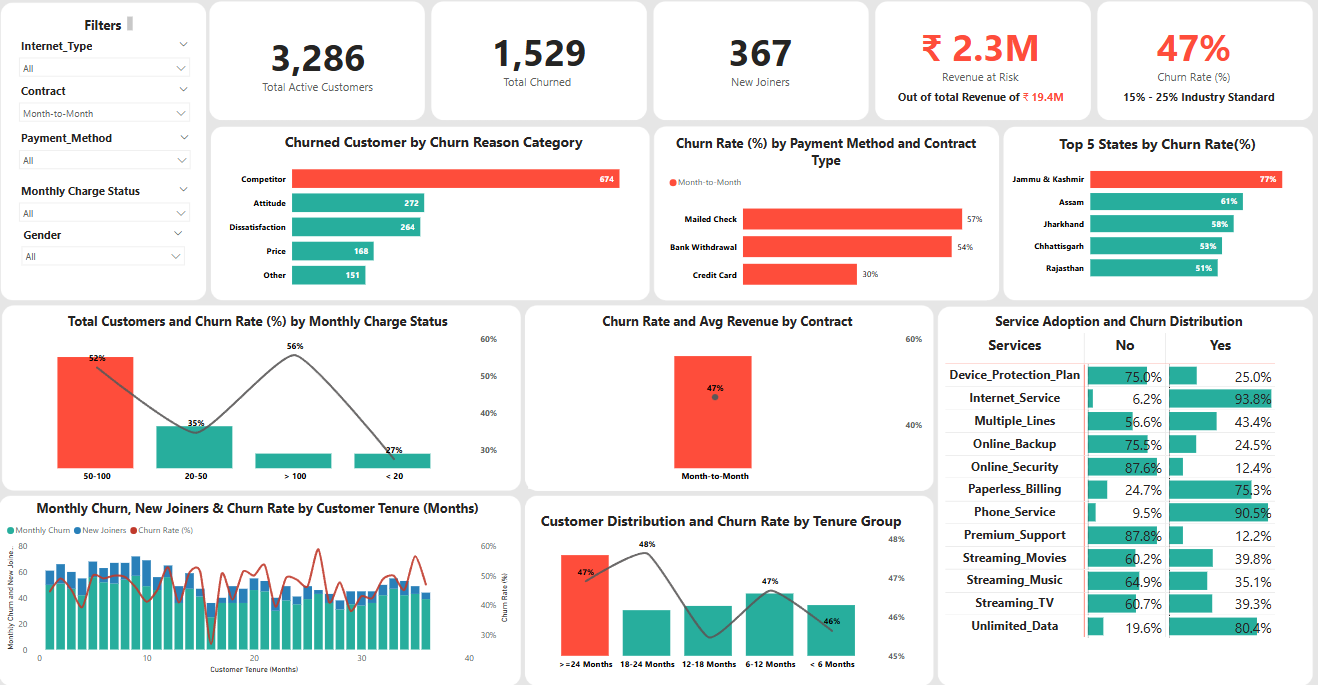

What the dashboard file says about the page in this screenshot:
{"tool":"powerbi","page":{"name":"Final Dashboard","canvas":[1920,1080],"ordinal":7},"visuals":[{"type":"slicer","fields":{"Values":["prod_services.Internet_Type"]},"box":[32,128,272,64],"z":0},{"type":"slicer","fields":{"Values":["prod_Churn.Contract"]},"box":[32.3,192.3,272.3,63.8],"z":1000},{"type":"slicer","fields":{"Values":["prod_Churn.Payment_Method"]},"box":[32.3,267.7,272.3,69.2],"z":2000},{"type":"slicer","fields":{"Values":["prod_Churn.Monthly Charge Status"]},"box":[32.3,336.9,272.3,72.3],"z":3000},{"type":"card","fields":{"Values":["tbl_Measures.Total Customers"]},"box":[384,112,176,112],"z":4000},{"type":"card","fields":{"Values":["tbl_Measures.Total Churned Customers"]},"box":[704,96,176,128],"z":5000},{"type":"card","fields":{"Values":["tbl_Measures.Revenue at Risk"]},"box":[1307.4,82.5,248.7,138.3],"z":6000,"group":"g2"},{"type":"card","fields":{"Values":["tbl_Measures.New Joiners"]},"box":[1040,96,144,128],"z":6000},{"type":"card","fields":{"Values":["tbl_Measures.Churn Rate (%)"]},"box":[1642.5,96,194.2,113.1],"z":6000,"group":"g1"},{"type":"barChart","title":"Churned Customer by Churn Reason Category","fields":{"Category":["prod_Churn.Churn_Category"],"Y":["CountNonNull(prod_Churn.Customer_Status)"]},"box":[336.5,267.3,605.2,240.7],"z":7000},{"type":"lineStackedColumnComboChart","title":"Customer Distribution and Churn Rate by Tenure Group","fields":{"Category":["Mapping_TenureGrp.Tenure Group"],"Y":["tbl_Measures.Total Customers"],"Y2":["tbl_Measures.Churn Rate (%)"]},"box":[784,816,544,240],"z":8000},{"type":"lineStackedColumnComboChart","title":"Churn Rate and Avg Revenue by Contract","fields":{"Category":["prod_Churn.Contract"],"Y":["tbl_Measures.Avg Revenue per Customer"],"Y2":["tbl_Measures.Churn Rate (%)"]},"box":[776,528,576,256],"z":9000},{"type":"clusteredBarChart","title":"Churn Rate (%) by Payment Method and Contract Type","fields":{"Category":["prod_Churn.Payment_Method"],"Y":["tbl_Measures.Churn Rate (%)"],"Series":["prod_Churn.Contract"]},"box":[976,272,464,240],"z":10000},{"type":"lineStackedColumnComboChart","title":"Total Customers and Churn Rate (%) by Monthly Charge Status","fields":{"Category":["prod_Churn.Monthly Charge Status"],"Y2":["tbl_Measures.Churn Rate (%)"],"Y":["tbl_Measures.Total Customers"]},"box":[32,528,704,256],"z":11000},{"type":"lineStackedColumnComboChart","title":"Monthly Churn, New Joiners & Churn Rate by Customer Tenure (Months)","fields":{"Category":["Mapping_TenureGrp.Tenure_in_Months"],"Y":["tbl_Measures.Monthly Churn","tbl_Measures.New Joiners"],"Y2":["tbl_Measures.Churn Rate (%)"]},"box":[16,800,736,256],"z":12000},{"type":"pivotTable","title":"Service Adoption and Churn Distribution","fields":{"Rows":["prod_services.Services"],"Columns":["prod_services.Status"],"Values":["Sum(prod_services.Churned status)"]},"box":[1376,528,512,528],"z":13000},{"type":"barChart","title":"Top 5 States by Churn Rate(%)","fields":{"Category":["prod_Churn.State"],"Y":["tbl_Measures.Churn Rate (%)"]},"box":[1472,272,432,224],"z":14000},{"type":"textbox","box":[129.2,88.5,64.6,47.7],"z":15000},{"type":"group","id":"g1","title":"Group 1","box":[1632,96,240,144],"z":16000},{"type":"group","id":"g2","title":"Group 2","box":[1307.4,82.5,268.7,154.3],"z":17000},{"type":"textbox","box":[1307.4,200.9,268.7,35.9],"z":17001,"group":"g2"},{"type":"textbox","box":[1632,201.8,239.4,35.9],"z":17001,"group":"g1"},{"type":"slicer","fields":{"Values":["Mapping_TenureGrp.Tenure Group"]},"box":[32.3,409.2,272.3,80],"z":18000}]}

Visuals, with their boxes on the page's 1920x1080 design canvas (x1, y1, x2, y2). These are canvas units, not pixel positions in the 1318x685 screenshot, which may show the page scaled, cropped or inside an application window:
slicer - prod_services.Internet_Type: pyautogui.locateOnScreen(32, 128, 304, 192)
slicer - prod_Churn.Contract: pyautogui.locateOnScreen(32, 192, 305, 256)
slicer - prod_Churn.Payment_Method: pyautogui.locateOnScreen(32, 268, 305, 337)
slicer - prod_Churn.Monthly Charge Status: pyautogui.locateOnScreen(32, 337, 305, 409)
card - tbl_Measures.Total Customers: pyautogui.locateOnScreen(384, 112, 560, 224)
card - tbl_Measures.Total Churned Customers: pyautogui.locateOnScreen(704, 96, 880, 224)
card - tbl_Measures.Revenue at Risk: pyautogui.locateOnScreen(1307, 82, 1556, 221)
card - tbl_Measures.New Joiners: pyautogui.locateOnScreen(1040, 96, 1184, 224)
card - tbl_Measures.Churn Rate (%): pyautogui.locateOnScreen(1642, 96, 1837, 209)
"Churned Customer by Churn Reason Category" barChart: pyautogui.locateOnScreen(336, 267, 942, 508)
"Customer Distribution and Churn Rate by Tenure Group" lineStackedColumnComboChart: pyautogui.locateOnScreen(784, 816, 1328, 1056)
"Churn Rate and Avg Revenue by Contract" lineStackedColumnComboChart: pyautogui.locateOnScreen(776, 528, 1352, 784)
"Churn Rate (%) by Payment Method and Contract Type" clusteredBarChart: pyautogui.locateOnScreen(976, 272, 1440, 512)
"Total Customers and Churn Rate (%) by Monthly Charge Status" lineStackedColumnComboChart: pyautogui.locateOnScreen(32, 528, 736, 784)
"Monthly Churn, New Joiners & Churn Rate by Customer Tenure (Months)" lineStackedColumnComboChart: pyautogui.locateOnScreen(16, 800, 752, 1056)
"Service Adoption and Churn Distribution" pivotTable: pyautogui.locateOnScreen(1376, 528, 1888, 1056)
"Top 5 States by Churn Rate(%)" barChart: pyautogui.locateOnScreen(1472, 272, 1904, 496)
textbox: pyautogui.locateOnScreen(129, 88, 194, 136)
"Group 1" group: pyautogui.locateOnScreen(1632, 96, 1872, 240)
"Group 2" group: pyautogui.locateOnScreen(1307, 82, 1576, 237)
textbox: pyautogui.locateOnScreen(1307, 201, 1576, 237)
textbox: pyautogui.locateOnScreen(1632, 202, 1871, 238)
slicer - Mapping_TenureGrp.Tenure Group: pyautogui.locateOnScreen(32, 409, 305, 489)
